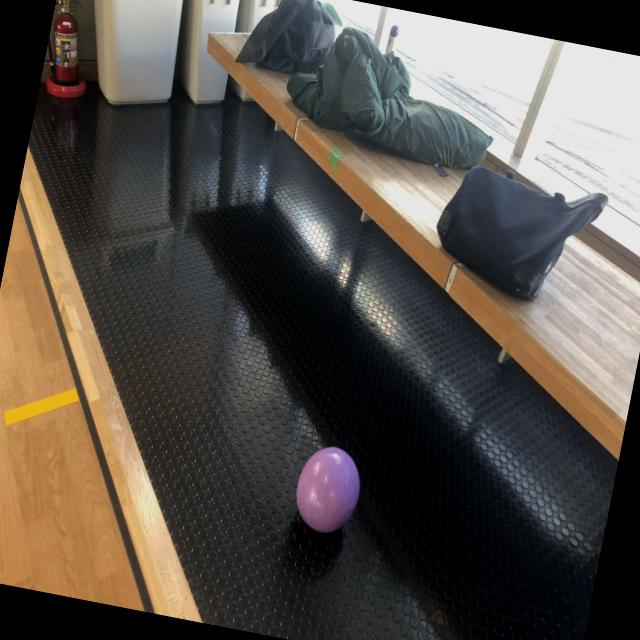purple_ball: (289, 441, 367, 538)
